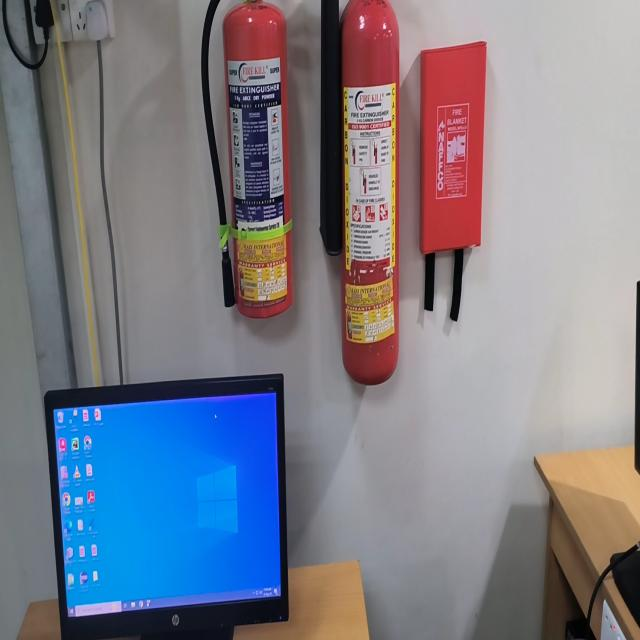Fire Extinguisher: (341, 0, 399, 384), (223, 0, 293, 318)
Monitor: (44, 374, 288, 639), (612, 550, 640, 626), (634, 281, 640, 474)
